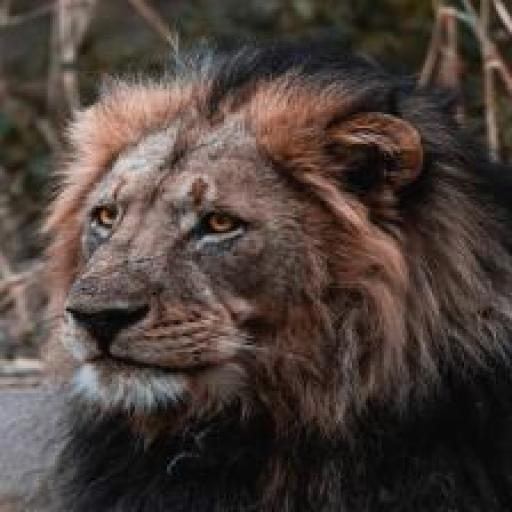lion: (36, 48, 494, 504)
